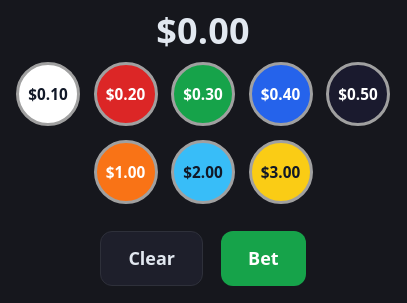
Scenario: ChipPicker › tapping multiple chips accumulates the total
Click the button with test id "chip-0.10" at coordinates (48, 94), box [16,62,80,126]
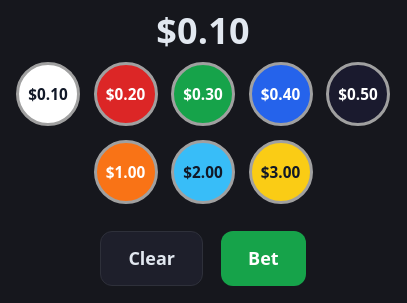
Click the button with test id "chip-0.20" at coordinates (126, 94), box [94,62,158,126]
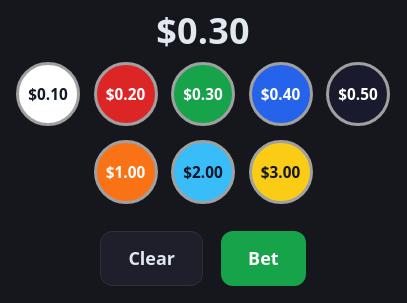
Click the button with test id "chip-0.50" at coordinates (358, 94), box [326,62,390,126]
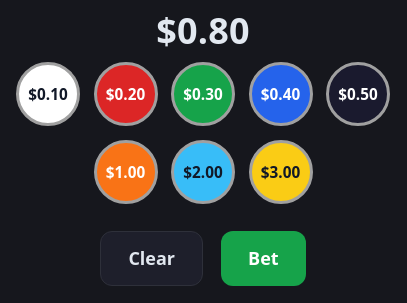
Result: the text with test id "chip-total" reads "$0.80" at [156,6,250,55]
